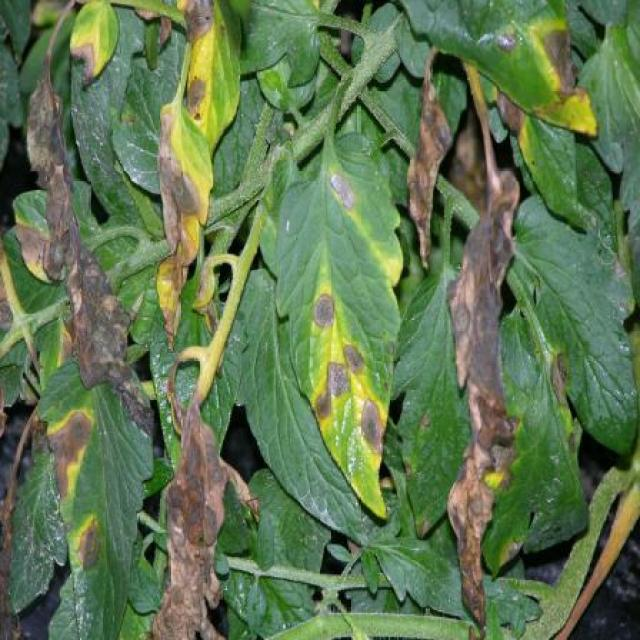Early Blight: (478, 190, 640, 576), (272, 130, 404, 523), (44, 350, 147, 640), (432, 0, 594, 131), (157, 100, 213, 334), (175, 2, 242, 145)
